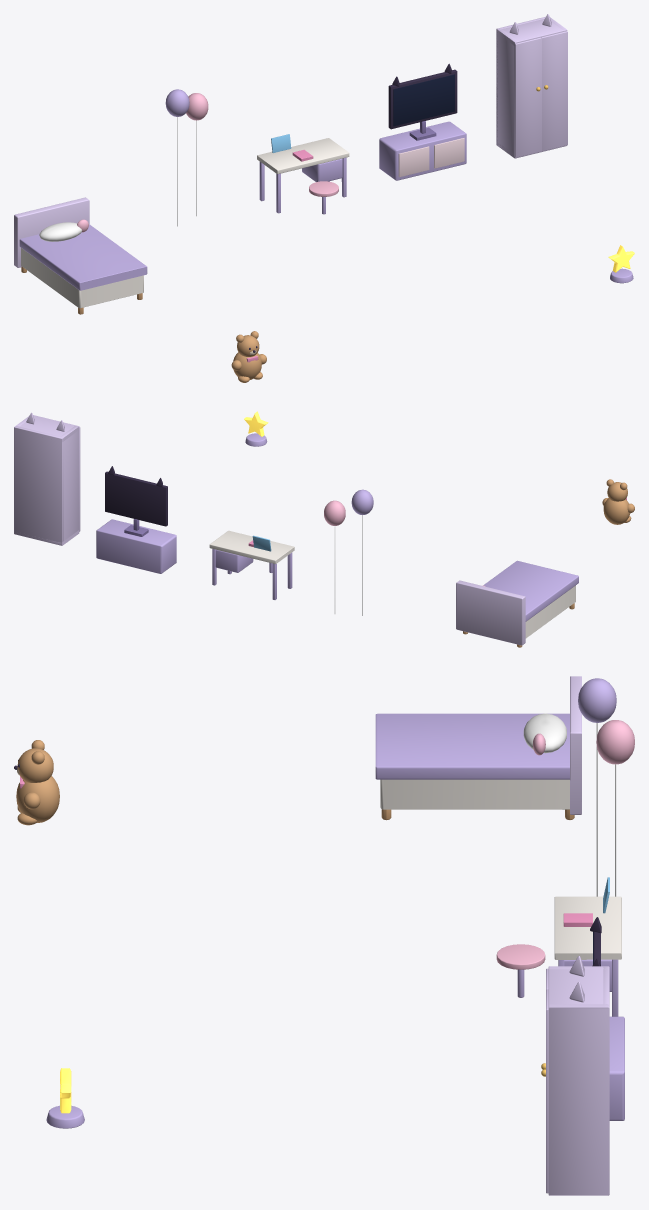
The model's file is decor-com.glb.
3 renders of one model, top to bottom at view 1: azimuth 30°, elevation 25°; view 2: azimuth 150°, elevation 25°; view 3: azimuth 270°, elevation 25°, orthographic. The views are drawn at different scales.
Parts seen in each view (by area): view 1: decor-item-kid-bed-mesh, decor-item-television-mesh, decor-item-study-desk-mesh, decor-item-wardrobe-mesh, part-door-left-mesh, part-door-right-mesh, part-screen-mesh, decor-item-teddy-mesh, decor-item-balloon-lilac-mesh, decor-item-night-light-mesh, decor-item-balloon-pink-mesh; view 2: decor-item-wardrobe-mesh, decor-item-kid-bed-mesh, decor-item-television-mesh, decor-item-study-desk-mesh, decor-item-teddy-mesh, decor-item-balloon-pink-mesh, decor-item-balloon-lilac-mesh, decor-item-night-light-mesh; view 3: decor-item-kid-bed-mesh, decor-item-wardrobe-mesh, decor-item-study-desk-mesh, decor-item-teddy-mesh, decor-item-television-mesh, decor-item-balloon-lilac-mesh, decor-item-balloon-pink-mesh, decor-item-night-light-mesh.
Part boxes in pixels (bbox=[...]): decor-item-kid-bed-mesh: bbox=[14, 197, 147, 314]; decor-item-television-mesh: bbox=[379, 63, 466, 180]; decor-item-study-desk-mesh: bbox=[257, 134, 349, 214]; decor-item-wardrobe-mesh: bbox=[496, 14, 567, 158]; part-door-left-mesh: bbox=[514, 37, 541, 157]; part-door-right-mesh: bbox=[541, 31, 567, 151]; part-screen-mesh: bbox=[393, 74, 454, 126]; decor-item-teddy-mesh: bbox=[231, 331, 266, 382]; decor-item-balloon-lilac-mesh: bbox=[165, 89, 189, 226]; decor-item-night-light-mesh: bbox=[608, 245, 634, 283]; decor-item-balloon-pink-mesh: bbox=[186, 93, 208, 216]; decor-item-wardrobe-mesh: bbox=[14, 412, 79, 545]; decor-item-kid-bed-mesh: bbox=[456, 560, 578, 647]; decor-item-television-mesh: bbox=[96, 466, 176, 573]; decor-item-study-desk-mesh: bbox=[209, 530, 294, 599]; decor-item-teddy-mesh: bbox=[602, 479, 634, 524]; decor-item-balloon-pink-mesh: bbox=[324, 500, 345, 613]; decor-item-balloon-lilac-mesh: bbox=[351, 489, 373, 615]; decor-item-night-light-mesh: bbox=[244, 411, 268, 446]; decor-item-kid-bed-mesh: bbox=[375, 676, 581, 820]; decor-item-wardrobe-mesh: bbox=[548, 956, 609, 1195]; decor-item-study-desk-mesh: bbox=[496, 877, 621, 1016]; decor-item-teddy-mesh: bbox=[14, 740, 59, 825]; decor-item-television-mesh: bbox=[590, 917, 624, 1120]; decor-item-balloon-lilac-mesh: bbox=[578, 678, 616, 896]; decor-item-balloon-pink-mesh: bbox=[596, 720, 634, 896]; decor-item-night-light-mesh: bbox=[46, 1068, 84, 1128].
Bounding box in the file's own units: 14.94 × 3.62 × 9.14.
